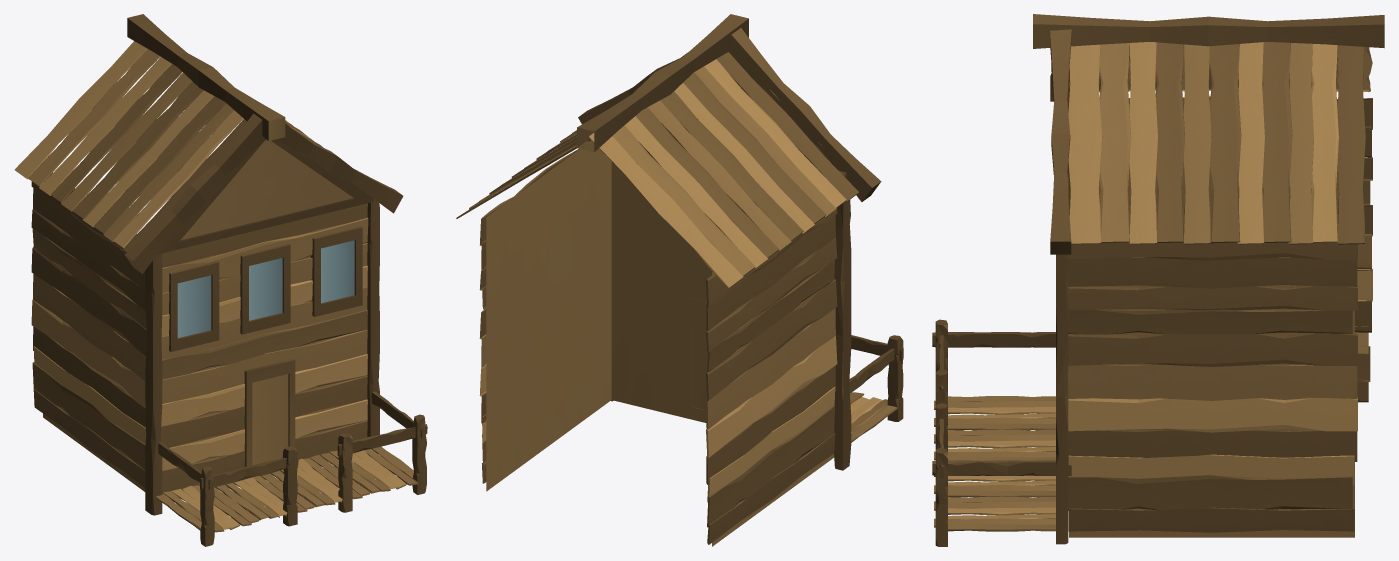
The model's file is Bâtiment_1.fbx.
The picture shows the model from 3 angles, left to right: view 1: azimuth 30°, elevation 25°; view 2: azimuth 150°, elevation 25°; view 3: azimuth 270°, elevation 25°; orthographic projection. The views are drawn at different scales.
Visible parts, largest first — view 1: m_JS_Batiment; view 2: m_JS_Batiment; view 3: m_JS_Batiment.
Boxes of the visible parts, bbox=[...] form: m_JS_Batiment: bbox=[14, 14, 427, 546]; m_JS_Batiment: bbox=[456, 14, 903, 546]; m_JS_Batiment: bbox=[932, 14, 1384, 546].
Bounding box in the file's own units: 6 × 7.99 × 7.
